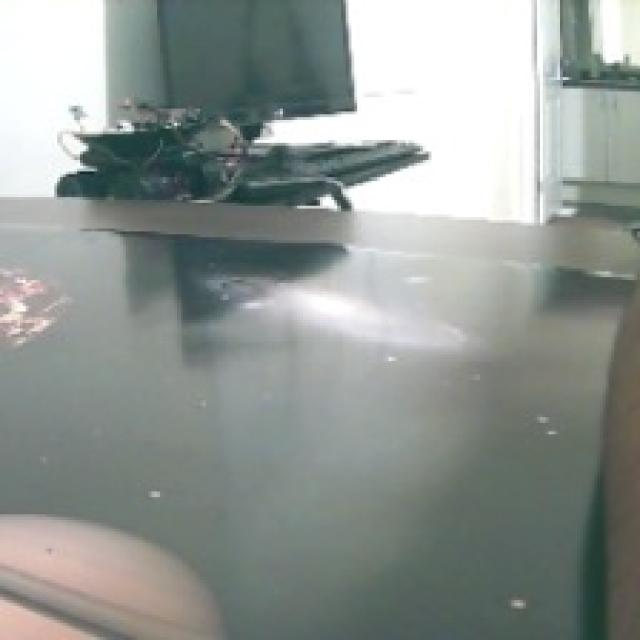Galaxy: (193, 267, 495, 362)
Saturn: (0, 512, 234, 640)
Sun: (0, 257, 74, 357)
